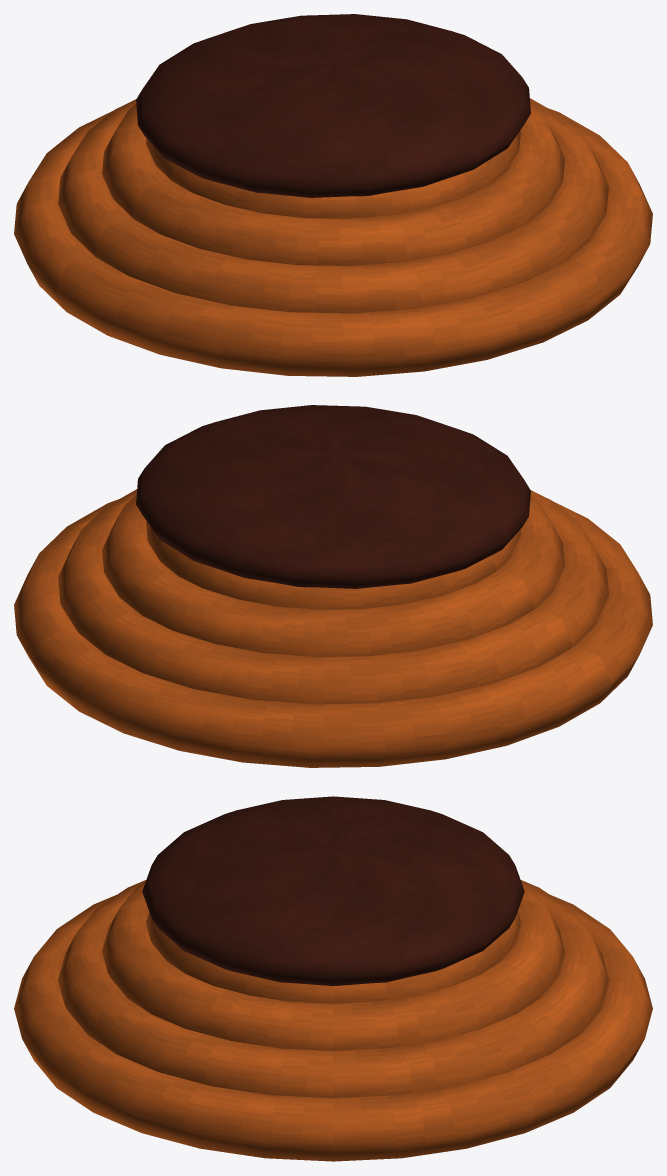
File: bread_choco_danish.glb
3 views of the same model, one above another, from view 1: azimuth 30°, elevation 25°; view 2: azimuth 150°, elevation 25°; view 3: azimuth 270°, elevation 25° (orthographic).
Visible parts, largest first — view 1: フィリング, パイ生地の渦巻き, パイ生地の渦巻き.001, パイ生地の渦巻き.002, パイ生地の渦巻き.003; view 2: フィリング, パイ生地の渦巻き, パイ生地の渦巻き.001, パイ生地の渦巻き.002, パイ生地の渦巻き.003; view 3: フィリング, パイ生地の渦巻き, パイ生地の渦巻き.001, パイ生地の渦巻き.002, パイ生地の渦巻き.003.
Boxes of the visible parts, bbox=[...] form: フィリング: bbox=[136, 14, 530, 197]; パイ生地の渦巻き: bbox=[14, 108, 652, 376]; パイ生地の渦巻き.001: bbox=[58, 98, 608, 313]; パイ生地の渦巻き.002: bbox=[102, 103, 564, 265]; パイ生地の渦巻き.003: bbox=[146, 130, 520, 218]; フィリング: bbox=[136, 405, 530, 588]; パイ生地の渦巻き: bbox=[14, 499, 652, 767]; パイ生地の渦巻き.001: bbox=[58, 489, 608, 704]; パイ生地の渦巻き.002: bbox=[102, 494, 564, 656]; パイ生地の渦巻き.003: bbox=[146, 521, 520, 609]; フィリング: bbox=[142, 796, 524, 985]; パイ生地の渦巻き: bbox=[14, 895, 652, 1161]; パイ生地の渦巻き.001: bbox=[58, 880, 608, 1097]; パイ生地の渦巻き.002: bbox=[102, 882, 564, 1050]; パイ生地の渦巻き.003: bbox=[146, 911, 520, 1003].
Bounding box in the file's own units: 0.668 × 0.2181 × 0.668.
Materials: 2 (2 with a texture image).
